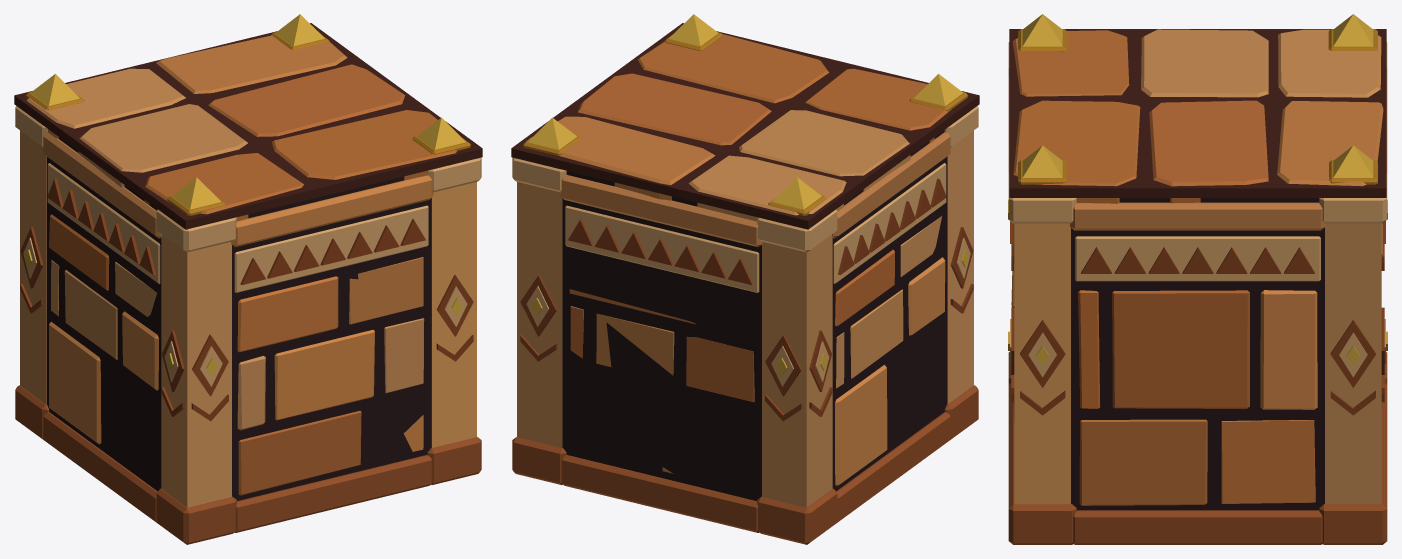
File: wall_a.fbx
The picture shows the model from 3 angles, left to right: view 1: azimuth 30°, elevation 25°; view 2: azimuth 150°, elevation 25°; view 3: azimuth 270°, elevation 25°; orthographic projection. The views are drawn at different scales.
Parts seen in each view (by area): view 1: wall_a; view 2: wall_a; view 3: wall_a.
Part boxes in pixels (box(x1,y1,x2,y2)): wall_a: box(14, 14, 482, 544); wall_a: box(511, 14, 979, 544); wall_a: box(1008, 14, 1387, 544).
Size of the model in its own units: 4 by 4.5 by 4.
